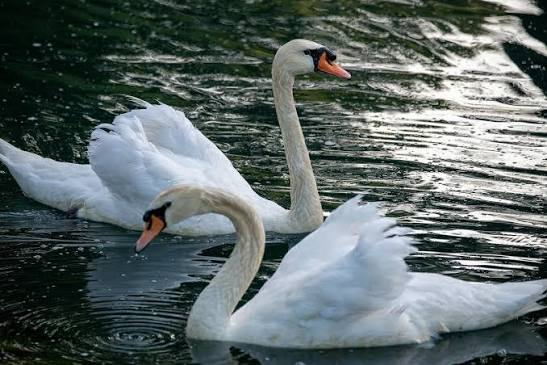swan: (0, 38, 354, 235), (134, 186, 547, 350)
